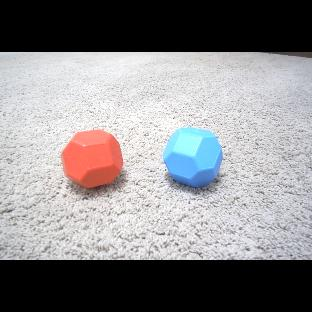V5_BLUE: (163, 126, 223, 186)
V5_RED: (62, 129, 125, 188)
